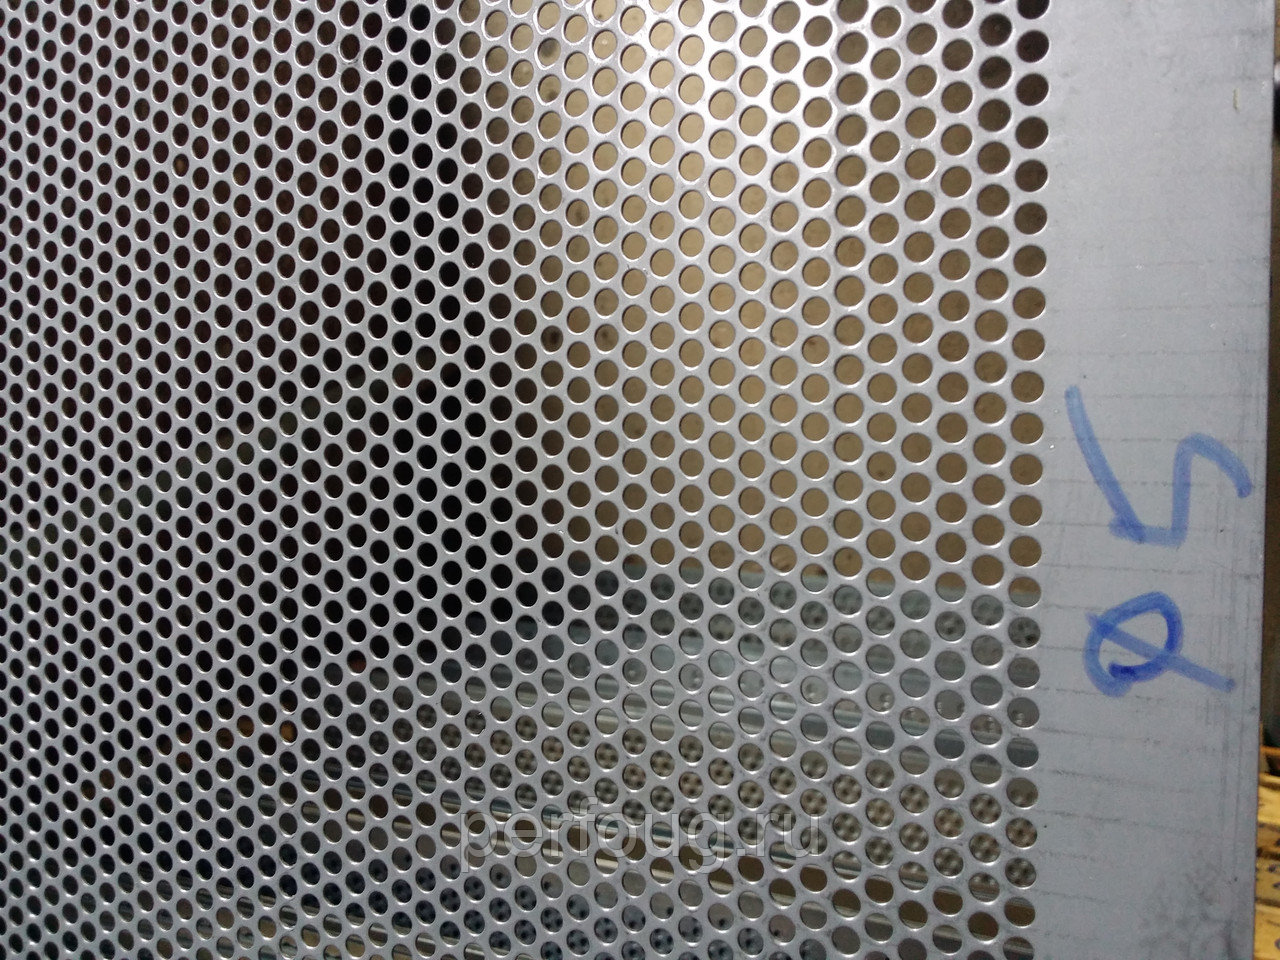Hole: (1010, 154, 1053, 197), (1002, 812, 1045, 853), (1006, 449, 1051, 488), (1011, 197, 1054, 237), (966, 669, 1005, 712), (969, 427, 1008, 470), (1007, 368, 1051, 406), (1013, 69, 1053, 110), (1013, 26, 1055, 66), (1010, 240, 1052, 279), (970, 387, 1009, 430), (1002, 693, 1045, 731), (1012, 113, 1052, 153), (1004, 733, 1044, 773), (1007, 408, 1048, 448), (1004, 533, 1048, 570), (968, 552, 1007, 592), (972, 305, 1009, 347), (1007, 491, 1046, 530), (965, 749, 1004, 789), (969, 470, 1008, 509), (970, 347, 1009, 386), (968, 630, 1006, 671), (968, 591, 1006, 631), (969, 510, 1007, 551), (972, 265, 1012, 304), (974, 222, 1012, 262), (1001, 892, 1042, 930), (1004, 654, 1046, 691), (1002, 773, 1044, 810), (1010, 325, 1049, 363), (974, 181, 1012, 220), (833, 66, 871, 105), (1006, 615, 1047, 651), (1002, 854, 1043, 890), (1009, 284, 1051, 320), (964, 908, 1002, 946), (974, 138, 1012, 176), (929, 802, 967, 841), (1007, 573, 1045, 610), (967, 710, 1004, 748), (930, 686, 968, 724), (896, 741, 933, 779), (934, 366, 971, 405), (932, 568, 969, 607), (903, 19, 939, 58), (966, 830, 1003, 867), (896, 703, 933, 740), (898, 430, 935, 467), (937, 204, 974, 241), (935, 286, 972, 324), (934, 449, 971, 486), (933, 607, 970, 644), (897, 625, 933, 663), (862, 564, 898, 601), (898, 390, 935, 427), (899, 348, 936, 384), (933, 488, 969, 526), (900, 308, 935, 346), (929, 842, 965, 880), (833, 191, 867, 230), (937, 162, 974, 199), (932, 725, 969, 761), (834, 28, 870, 65), (968, 789, 1003, 826), (934, 409, 970, 447), (897, 779, 932, 817), (863, 678, 898, 715), (897, 588, 934, 623), (902, 63, 939, 98), (868, 3, 903, 40), (965, 870, 1003, 905), (937, 246, 972, 284), (896, 470, 934, 504), (865, 368, 899, 406), (902, 227, 936, 265), (868, 86, 902, 124), (834, 111, 868, 149), (934, 328, 970, 364), (931, 764, 968, 800), (863, 717, 898, 753), (897, 664, 933, 699), (862, 642, 898, 678), (863, 603, 898, 639), (865, 290, 901, 326), (929, 883, 965, 920), (930, 921, 966, 957), (827, 923, 864, 958), (939, 120, 974, 157), (868, 127, 902, 164), (903, 103, 937, 140), (896, 858, 930, 895), (833, 271, 867, 309), (834, 151, 868, 189), (898, 269, 936, 303), (896, 549, 935, 581), (863, 833, 898, 868), (863, 755, 898, 791), (864, 330, 899, 365), (902, 187, 937, 222), (799, 94, 835, 129), (864, 525, 898, 562), (864, 408, 898, 445), (902, 146, 938, 181), (833, 234, 867, 270), (898, 510, 935, 544), (833, 312, 865, 350), (897, 819, 931, 854), (862, 795, 896, 830), (867, 211, 901, 246), (866, 170, 901, 205), (939, 79, 975, 113), (830, 809, 865, 844), (797, 823, 831, 858), (829, 696, 864, 731), (831, 429, 866, 464), (869, 45, 902, 82), (830, 543, 864, 579), (831, 467, 865, 503), (833, 351, 866, 387), (799, 254, 833, 290), (799, 215, 833, 251), (801, 53, 834, 91), (933, 647, 968, 682), (940, 36, 975, 71), (866, 252, 901, 285), (862, 871, 897, 905), (896, 897, 931, 931), (862, 910, 895, 945), (827, 886, 863, 920), (831, 848, 865, 883), (828, 735, 864, 768), (797, 560, 830, 595), (831, 506, 865, 542), (831, 390, 865, 426), (932, 530, 969, 563), (865, 448, 897, 484), (831, 582, 864, 618), (799, 370, 831, 406), (864, 488, 898, 521), (796, 861, 829, 895), (828, 772, 863, 806), (830, 658, 864, 693), (801, 14, 835, 48), (799, 448, 831, 483), (798, 784, 829, 820), (798, 709, 829, 745), (799, 746, 831, 781), (831, 621, 864, 655), (798, 598, 830, 632), (800, 176, 833, 211), (800, 333, 831, 368), (797, 899, 830, 932), (798, 637, 831, 670), (799, 486, 831, 519), (799, 409, 831, 443), (801, 135, 833, 169), (799, 674, 830, 707), (800, 295, 831, 328), (799, 523, 830, 555)
